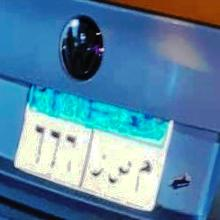6: (62, 132, 78, 173), (46, 128, 60, 168), (32, 120, 44, 164)
meem: (135, 158, 152, 194)
raa: (89, 156, 106, 178)
saad: (108, 158, 131, 195)
